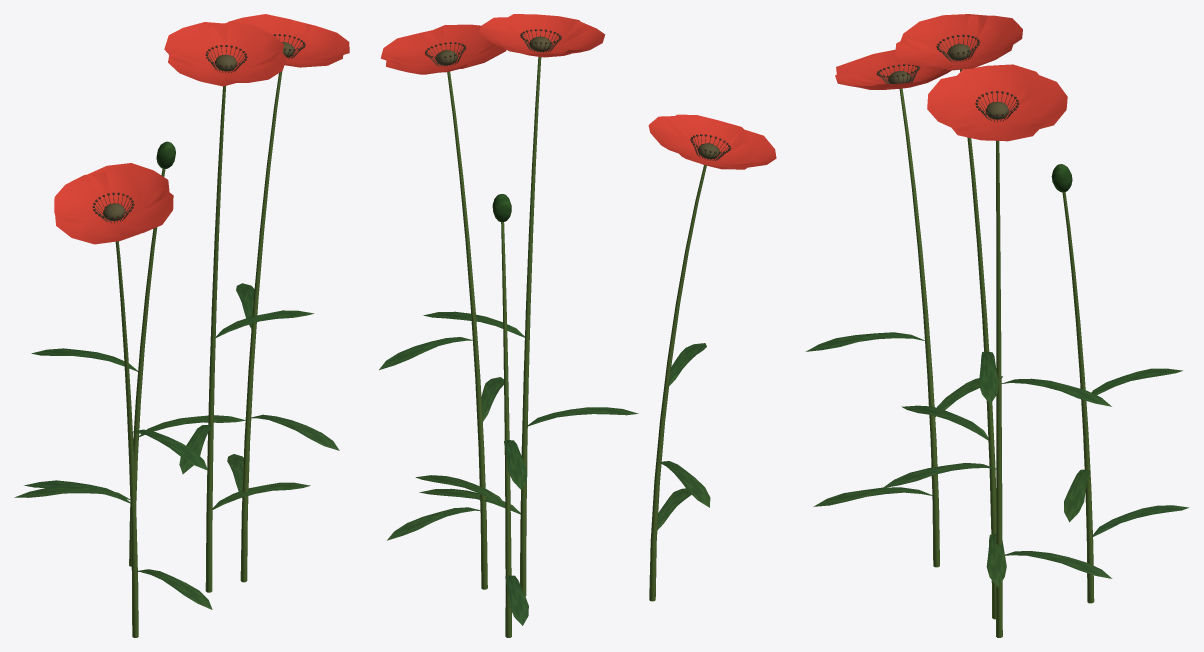
File: poppy.glb
3 renders of one model, left to right at view 1: azimuth 30°, elevation 25°; view 2: azimuth 150°, elevation 25°; view 3: azimuth 270°, elevation 25°, orthographic. The views are drawn at different scales.
Parts seen in each view (by area): view 1: Flowers, Stems, Foliage; view 2: Flowers, Stems, Foliage; view 3: Flowers, Stems, Foliage.
Part boxes in pixels (bbox=[...]): Flowers: bbox=[54, 14, 349, 244]; Stems: bbox=[115, 71, 282, 637]; Foliage: bbox=[14, 141, 339, 609]; Flowers: bbox=[380, 14, 776, 169]; Stems: bbox=[447, 56, 706, 637]; Foliage: bbox=[379, 194, 710, 625]; Flowers: bbox=[835, 14, 1067, 141]; Stems: bbox=[899, 69, 1094, 637]; Foliage: bbox=[805, 164, 1188, 586].
Size of the model in its own units: 0.387 by 0.62 by 0.3706.
Materials: 3 (1 with a texture image).
